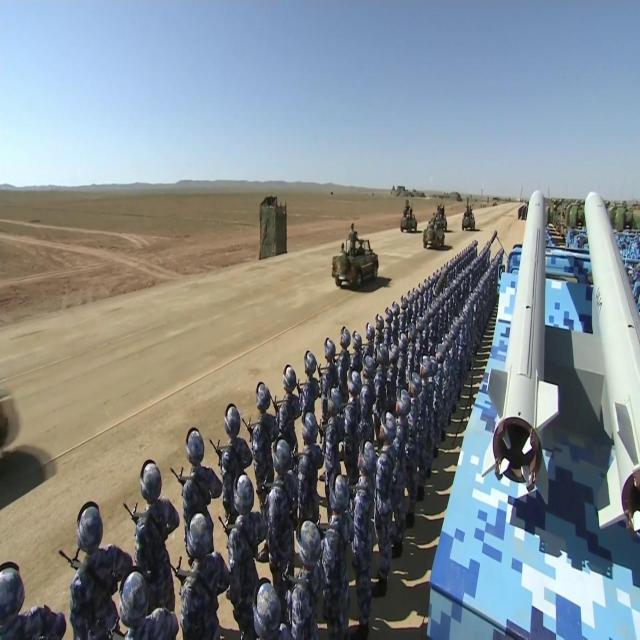Soldier: (180, 509, 226, 637), (68, 499, 120, 611), (125, 455, 179, 558), (172, 422, 222, 517), (288, 508, 326, 631), (115, 564, 176, 640), (321, 467, 354, 606), (267, 440, 304, 549), (224, 466, 258, 584), (354, 432, 376, 608), (209, 394, 249, 481), (378, 408, 402, 547), (293, 400, 325, 502), (248, 376, 278, 470), (276, 357, 302, 444), (321, 389, 347, 469), (393, 389, 417, 465), (296, 339, 320, 412), (318, 330, 339, 394), (346, 369, 360, 451), (361, 352, 376, 422)
